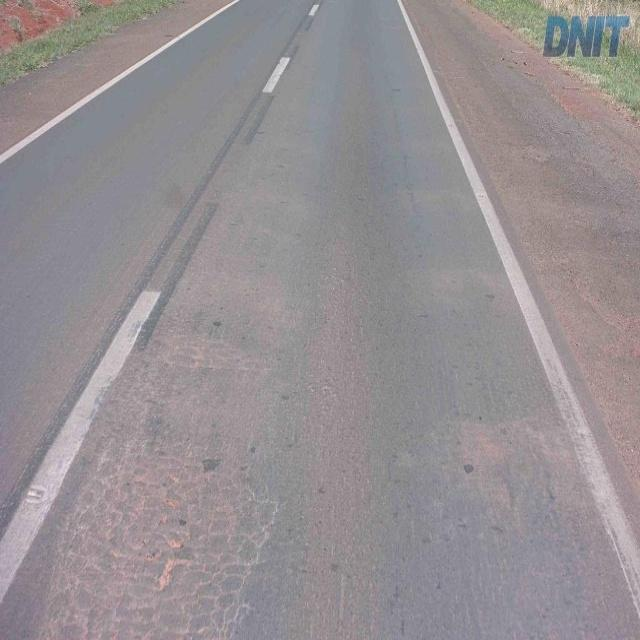pothole: (148, 497, 205, 594)
